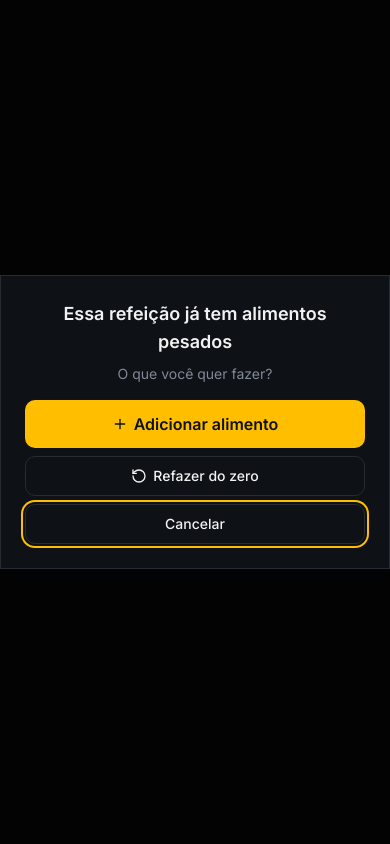
Pesar refeição — pergunta da refeição já pesada › Refazer do zero só começa depois de confirmar; Adicionar alimento e Cancelar
Later steps or results of the test are not shown.
Expected: the heading "Essa refeição já tem alimentos pesados" is shown, [63, 303, 327, 352]
Click the button "Refazer do zero".
click(195, 476)  # box [25, 456, 365, 496]
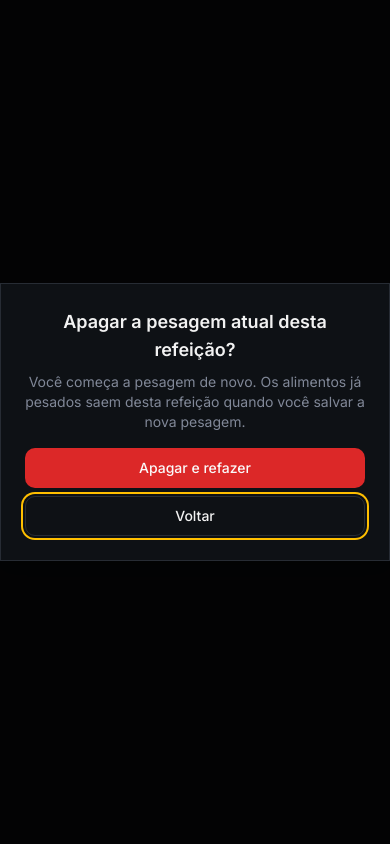
Expected: the heading "Apagar a pesagem atual desta refeição?" is shown, [63, 311, 327, 360]
Click the button "Voltar".
click(195, 516)  # box [25, 496, 365, 536]
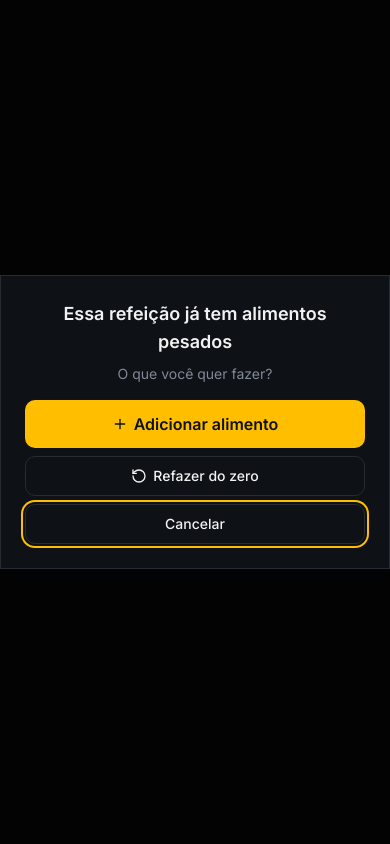
Expected: the button "Adicionar alimento" is shown, [25, 400, 365, 448]
